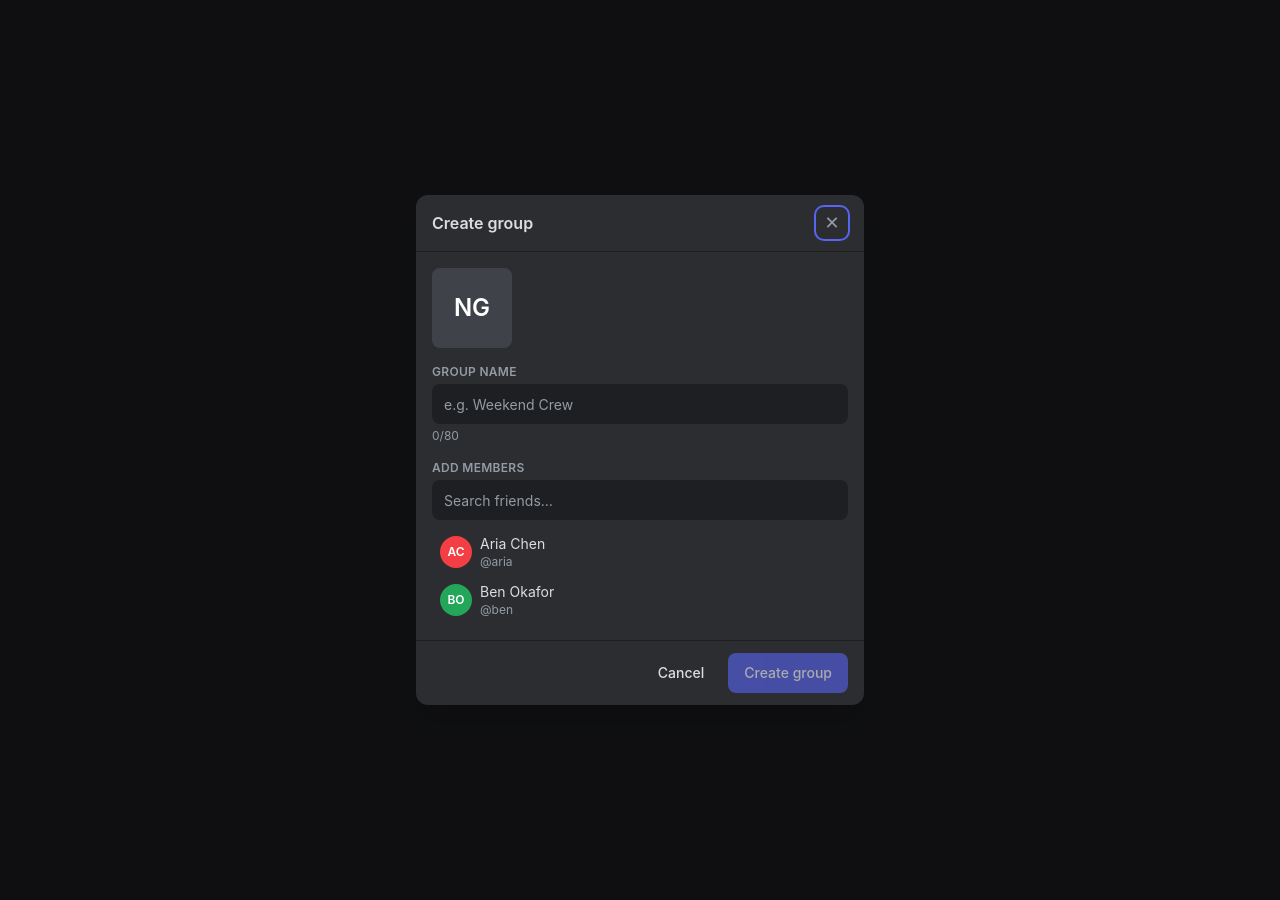
Test case: CreateGroupModal › shows error when API returns failure
This screenshot has width=1280, height=900.
Type "Test Group" into the field labelled "Group name".
click(640, 404); type("Test Group")  # box [432,384,848,424]
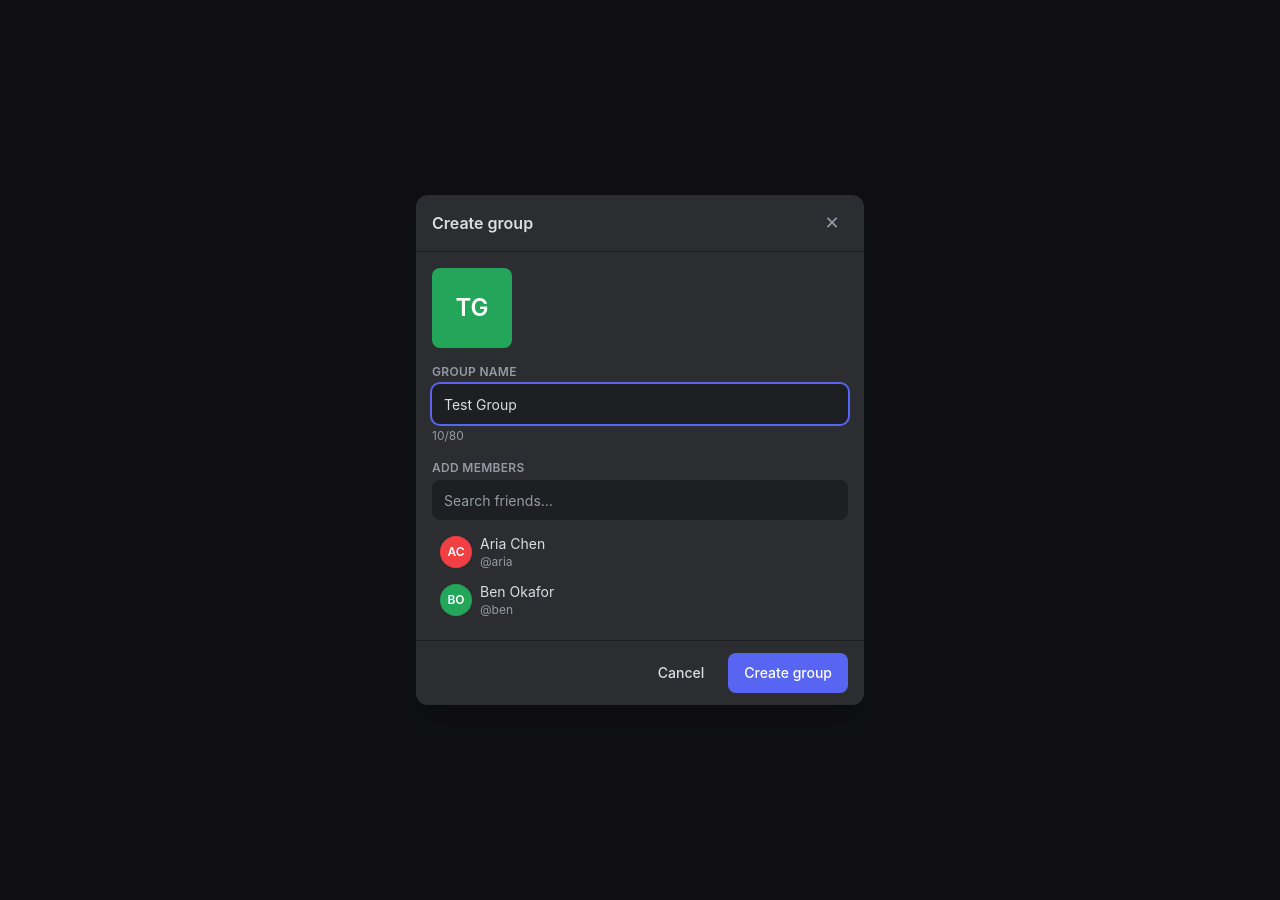
Click the button "Create group".
click(788, 673)  # box [728,653,848,693]
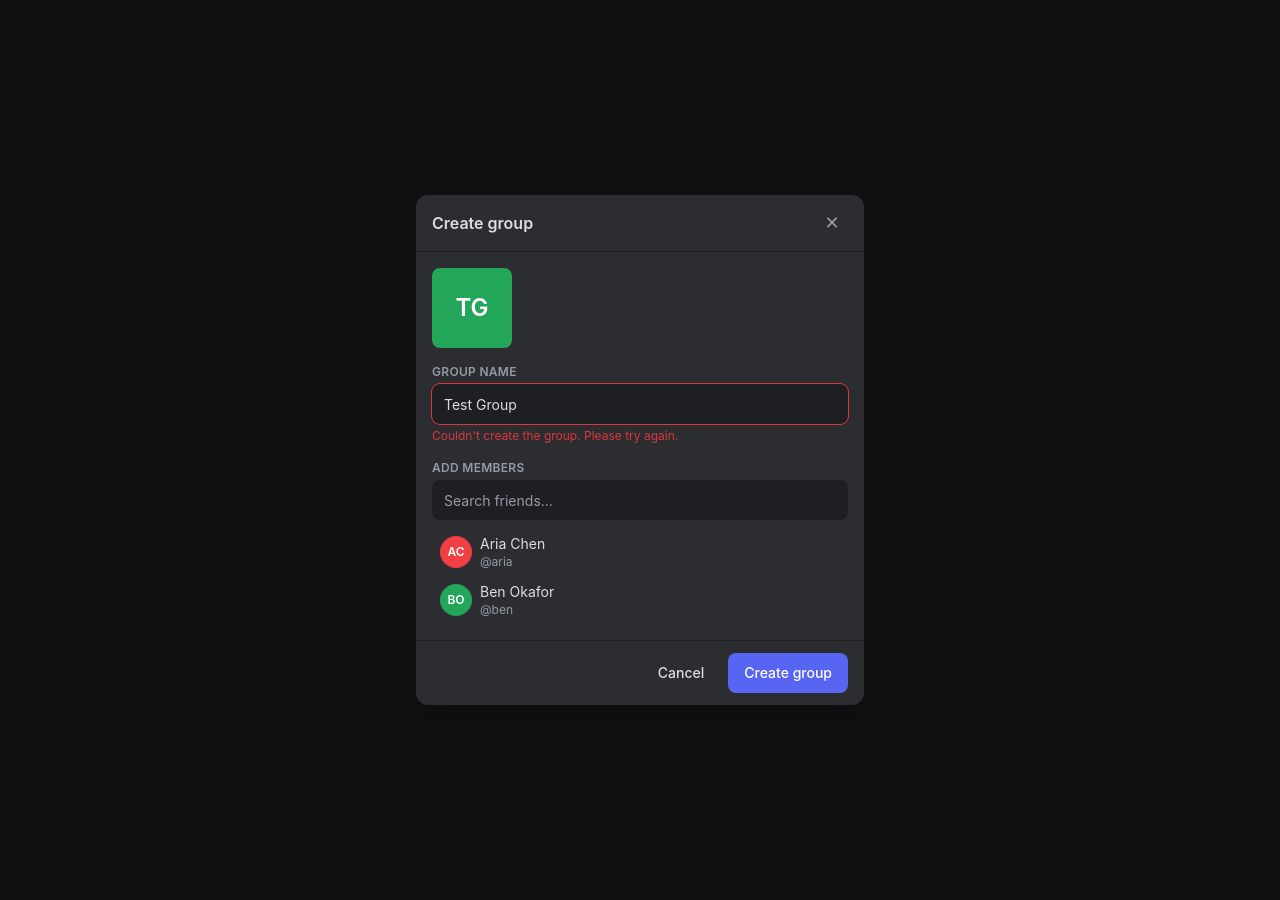
Result: the text "Couldn't create the group. Please try again." is shown at [432,428,678,443]
